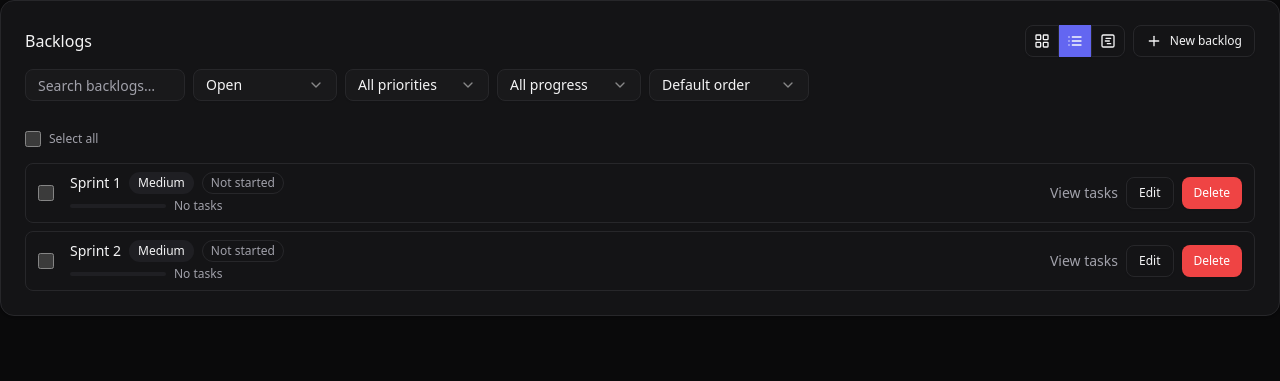
the status filter › Bulk actions › applies a bulk priority change to every selected backlog
This screenshot has width=1280, height=381.
What coordinates should you click on to do the following:
click the checkbox named "Select all backlogs"
I would click on:
 (33, 139)
Its box is [25,131,41,147].
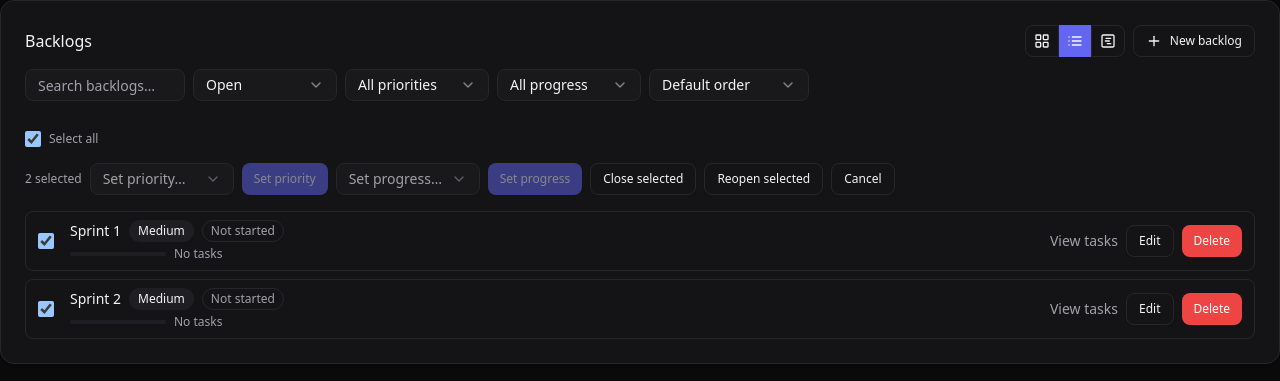
What coordinates should you click on to do the following:
click the dropdown named "Priority to set"
I would click on:
 (162, 179)
Its box is [90,163,234,195].
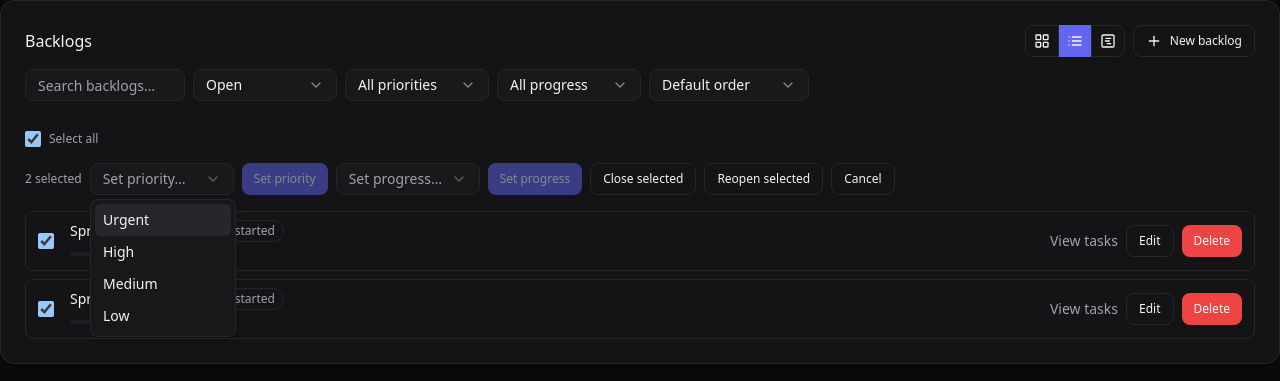
What coordinates should you click on to do the following:
click the option "Urgent"
I would click on:
 (163, 220)
Its box is [95,204,231,236].
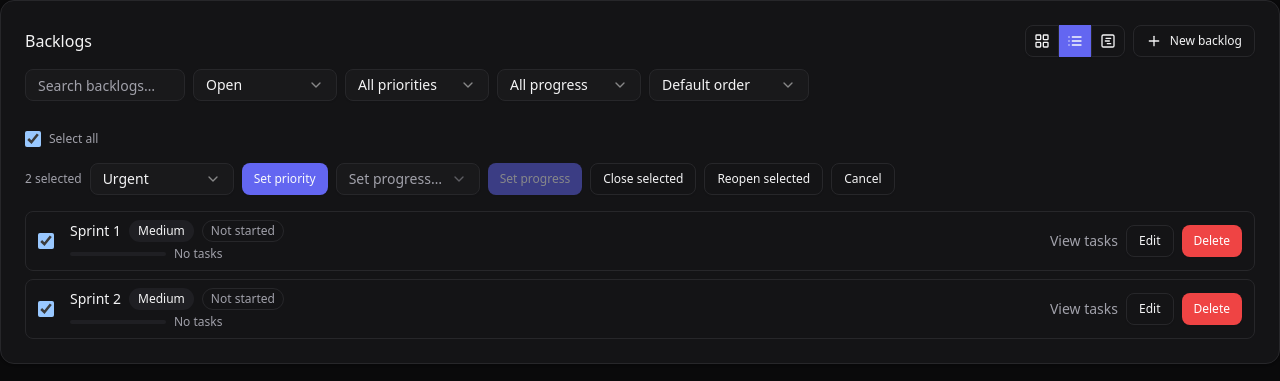
What coordinates should you click on to do the following:
click the button "Set priority"
I would click on:
 (285, 179)
Its box is [242,163,328,195].
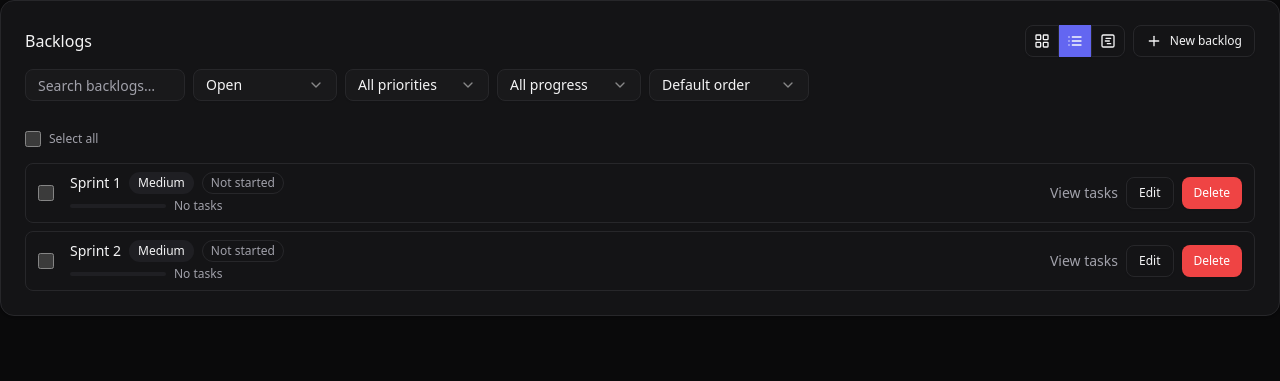
Expected: the text "selected" is gone
